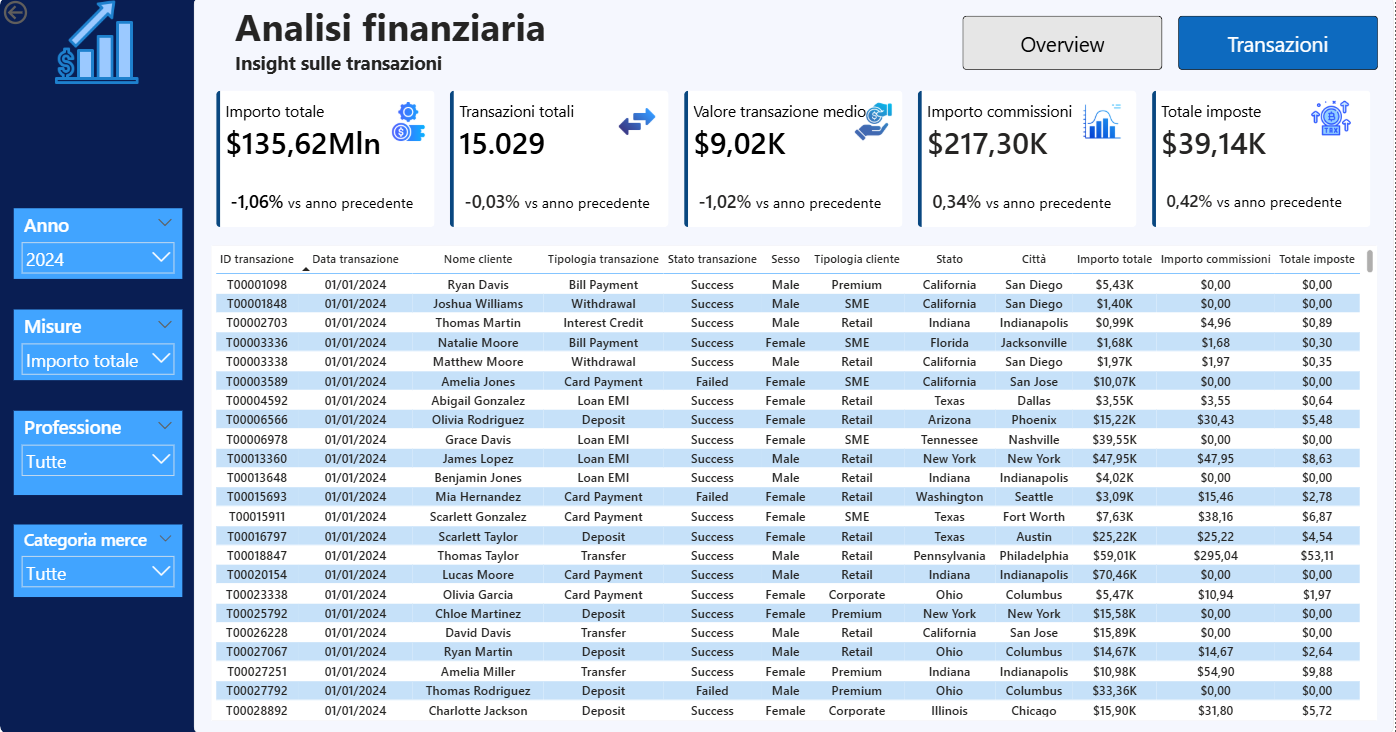

The dashboard page shown, as its layout file describes it:
{"tool":"powerbi","page":{"name":"Transazioni","canvas":[1800,950],"ordinal":1},"visuals":[{"type":"shape","box":[0,0,337.9,951.1],"z":0},{"type":"shape","box":[250.5,0,1549.1,951.4],"z":1000},{"type":"textbox","box":[297.8,0,718.3,140.2],"z":2000},{"type":"cardVisual","fields":{"Data":["Misure.Importo totale","Misure.Transazioni totali","Misure.Valore transazione medio","Misure.Importo commissioni","Misure.Totale imposte"]},"box":[272.5,114.3,1505.1,189],"z":3000},{"type":"image","box":[0,0,249.6,115.6],"z":4000},{"type":"image","box":[1682.7,125.3,70,60.5],"z":5000},{"type":"image","box":[797.5,135.7,50.1,50.1],"z":6000},{"type":"image","box":[501.1,135.7,50.1,50.1],"z":7000},{"type":"image","box":[1101.6,135,50.4,50.4],"z":8000},{"type":"image","box":[1396.7,135.7,50.1,50.1],"z":9000},{"type":"shape","box":[272.5,320.8,1505.1,613],"z":10000},{"type":"tableEx","fields":{"Values":["finance_transactions.transaction_id","finance_transactions.transaction_date","customers.customer_name","finance_transactions.transaction_type","finance_transactions.transaction_status","customers.gender","customers.customer_segment","customers.state","customers.city","Misure.Importo totale","Misure.Importo commissioni","Misure.Totale imposte"]},"box":[272.5,320.8,1505.1,613],"z":11000},{"type":"actionButton","box":[0,0,100,40],"z":12000},{"type":"slicer","fields":{"Values":["calendar_table.Year"]},"box":[17.6,273,217.2,91],"z":13000},{"type":"slicer","fields":{"Values":["Misure 2.Misure"]},"box":[17.6,403.1,217.2,91],"z":14000},{"type":"slicer","fields":{"Values":["customers.occupation"]},"box":[17.6,533.3,217.2,108.6],"z":15000},{"type":"slicer","fields":{"Values":["finance_transactions.merchant_category"]},"box":[17.6,681,217.2,93.9],"z":16000},{"type":"pageNavigator","box":[1241.7,23.5,537.2,70.5],"z":17000}]}

Visuals, with their boxes in screenshot pixels (x1, y1, x2, y2), scaled from the page's 1800x950 canvas onto the 1396x732 screenshot:
shape: 0 0 262 731
shape: 194 0 1395 731
textbox: 231 0 788 108
cardVisual - Misure.Importo totale x Misure.Transazioni totali: 211 88 1379 234
image: 0 0 194 89
image: 1305 97 1359 143
image: 619 105 657 143
image: 389 105 427 143
image: 854 104 893 143
image: 1083 105 1122 143
shape: 211 247 1379 720
tableEx - finance_transactions.transaction_id x finance_transactions.transaction_date: 211 247 1379 720
actionButton: 0 0 78 31
slicer - calendar_table.Year: 14 210 182 280
slicer - Misure 2.Misure: 14 311 182 381
slicer - customers.occupation: 14 411 182 495
slicer - finance_transactions.merchant_category: 14 525 182 597
pageNavigator: 963 18 1380 72
